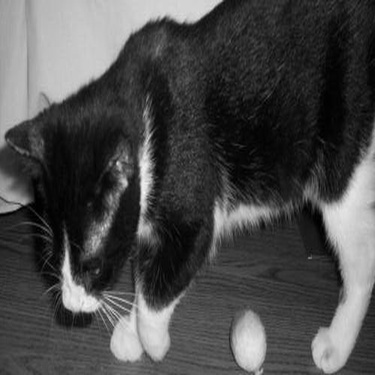cat: (2, 8, 370, 372)
